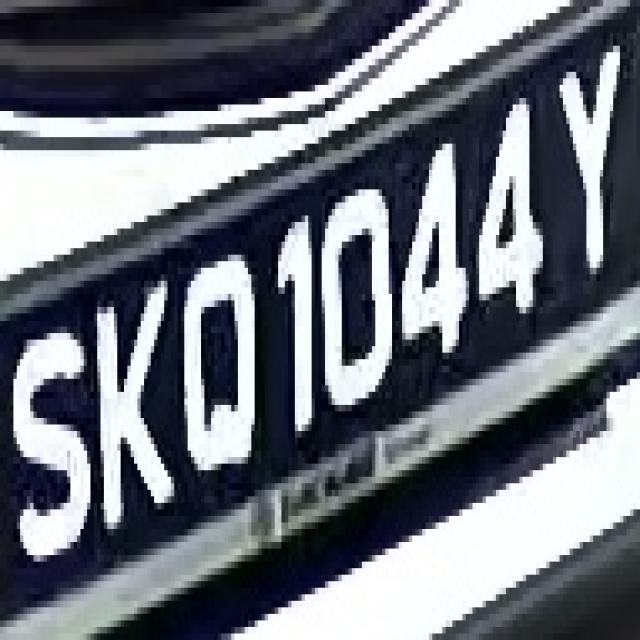0: (322, 150, 395, 438)
1: (284, 183, 322, 464)
4: (469, 72, 550, 326), (396, 131, 482, 359)
K: (97, 248, 174, 549)
Q: (175, 216, 272, 497)
S: (13, 307, 94, 581)
Y: (546, 13, 623, 294)
